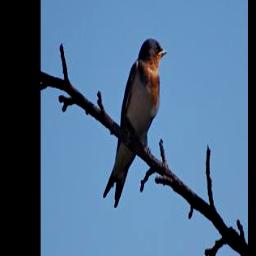Swallow: (103, 37, 167, 208)
